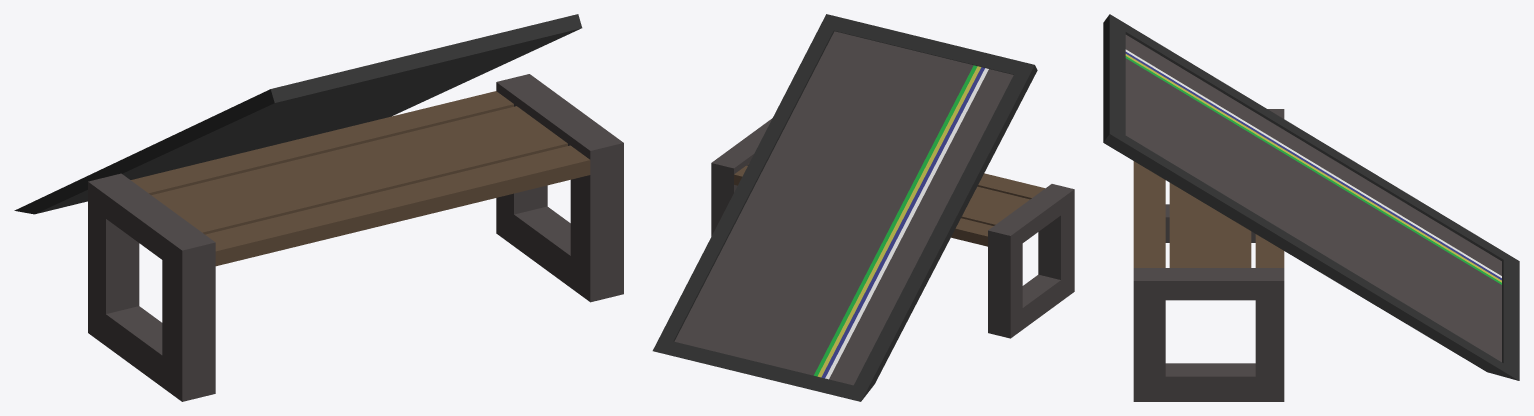
Rendered from Rampa 4.fbx.
The picture shows the model from 3 angles, left to right: view 1: azimuth 30°, elevation 25°; view 2: azimuth 150°, elevation 25°; view 3: azimuth 270°, elevation 25°; orthographic projection. The views are drawn at different scales.
Parts seen in each view (by area): view 1: Banca_2, Pantalla_Rota2; view 2: Pantalla_Rota2, Banca_2; view 3: Pantalla_Rota2, Banca_2.
Part boxes in pixels (<box>): Banca_2: <box>88,74,623,401</box>; Pantalla_Rota2: <box>14,14,582,214</box>; Pantalla_Rota2: <box>652,14,1037,401</box>; Banca_2: <box>711,118,1074,338</box>; Pantalla_Rota2: <box>1103,14,1519,380</box>; Banca_2: <box>1133,109,1284,401</box>.
Size of the model in its own units: 4.57 by 3.06 by 4.67.
